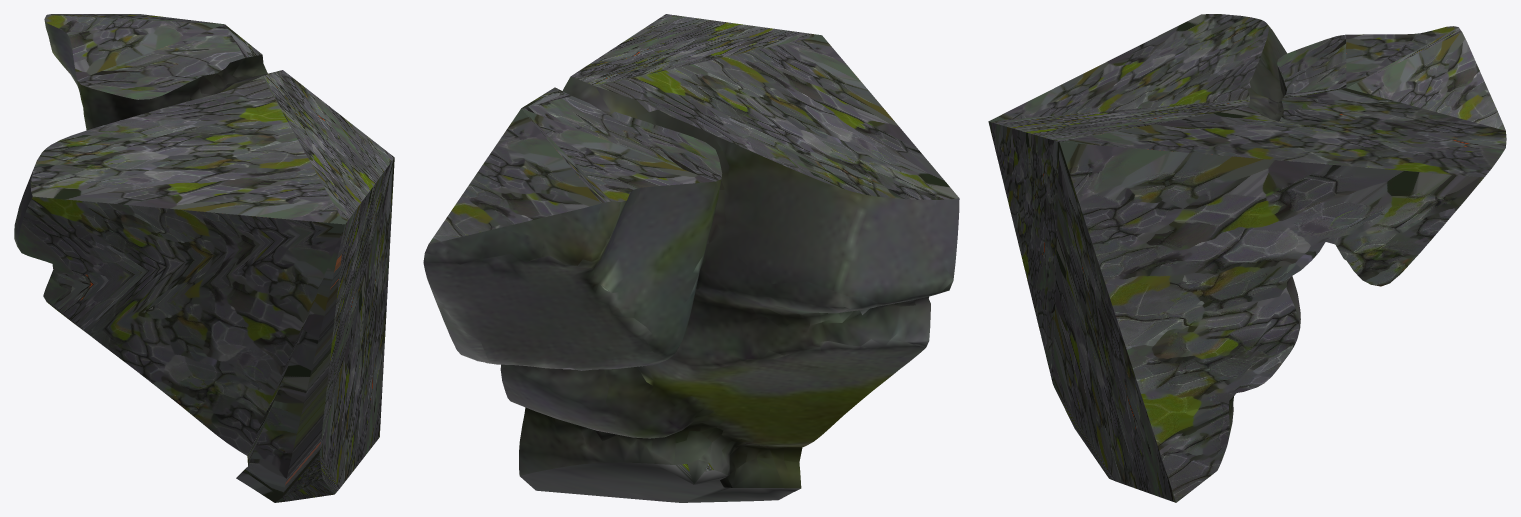
File: Frag_02.gltf
3 views of the same model, side by side, from view 1: azimuth 30°, elevation 25°; view 2: azimuth 150°, elevation 25°; view 3: azimuth 270°, elevation 25° (orthographic). The views are drawn at different scales.
Parts seen in each view (by area): view 1: Frag_02; view 2: Frag_02; view 3: Frag_02.
Part boxes in pixels (left/top/right/bottom): Frag_02: left=14, top=14, right=394, bottom=502; Frag_02: left=423, top=14, right=959, bottom=502; Frag_02: left=988, top=14, right=1506, bottom=502.
Size of the model in its own units: 0.2885 by 0.3111 by 0.3713.
1 material, 1 textured.
